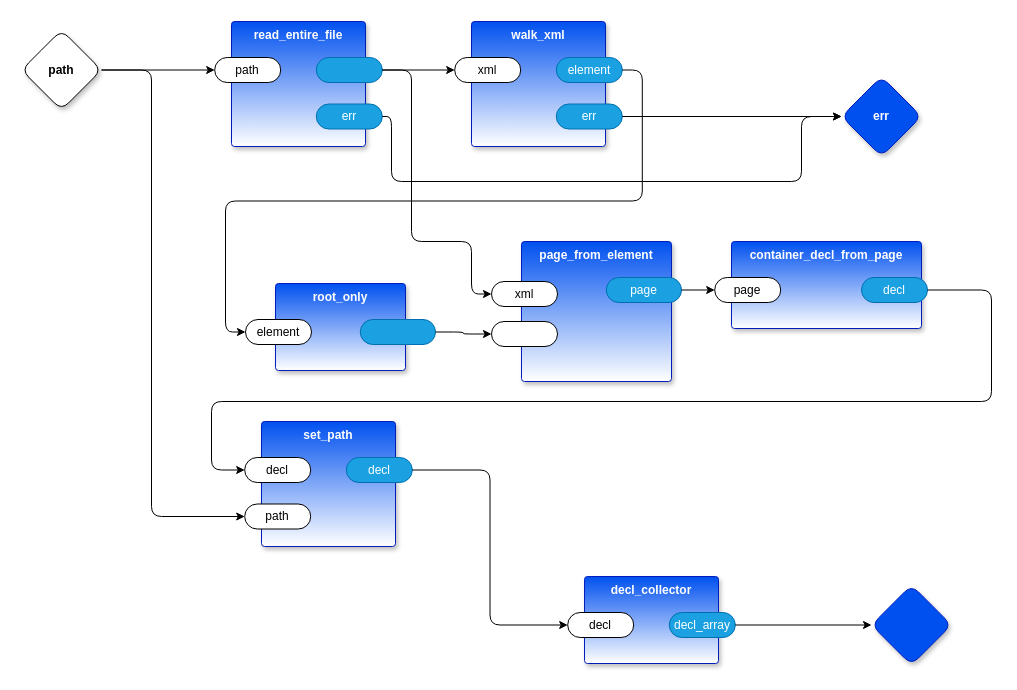
Some shapes in this 1017 by 690 pixel diagram are drawn without their labels. Here are the shapes that lost their labels. From the top down, the centre of each, then its label:
At [348,69]: "file".
At [397,331]: "root_element".
At [524,333]: "root".
At [912,626]: "output".
